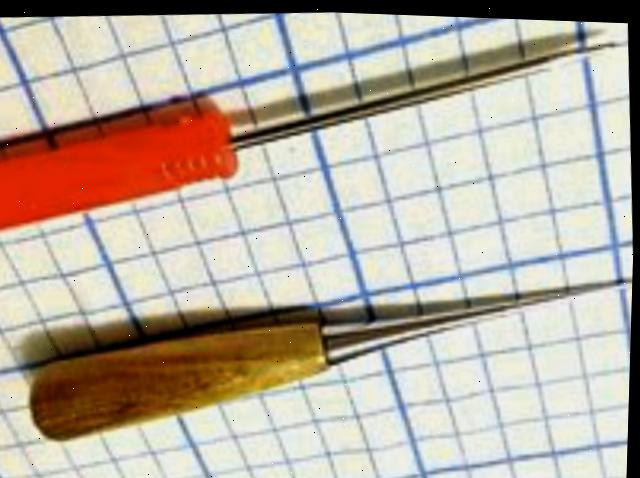ice pick: (0, 8, 621, 258), (16, 250, 634, 452)
